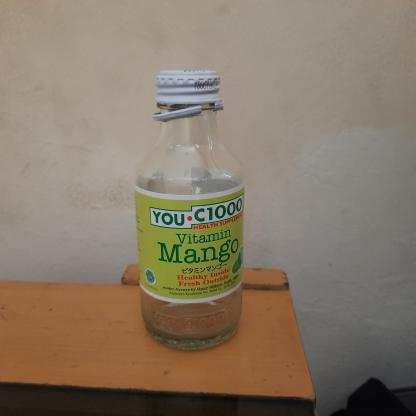bottle: (129, 61, 246, 352)
